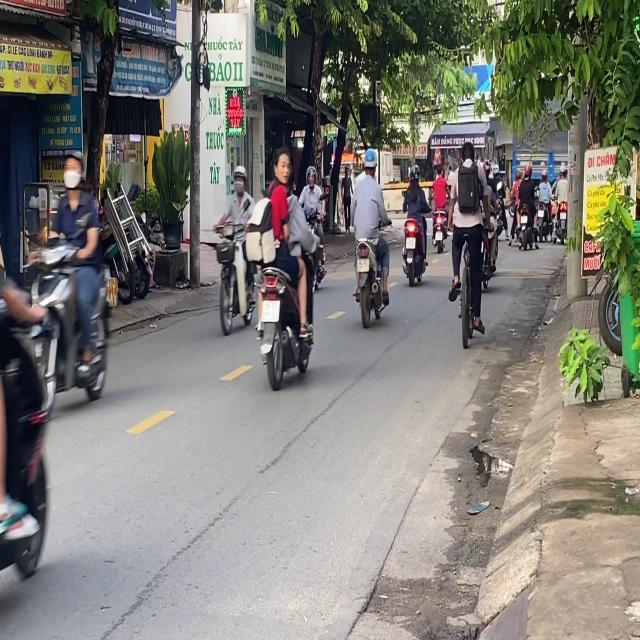helmet: (61, 149, 84, 195), (232, 164, 246, 195), (362, 147, 376, 174)
licenseplate: (23, 146, 117, 415), (254, 147, 317, 388), (212, 163, 259, 334), (349, 146, 391, 326)
motorcyclist: (273, 150, 291, 186)
nohelmet: (260, 299, 280, 321), (357, 258, 369, 272)
